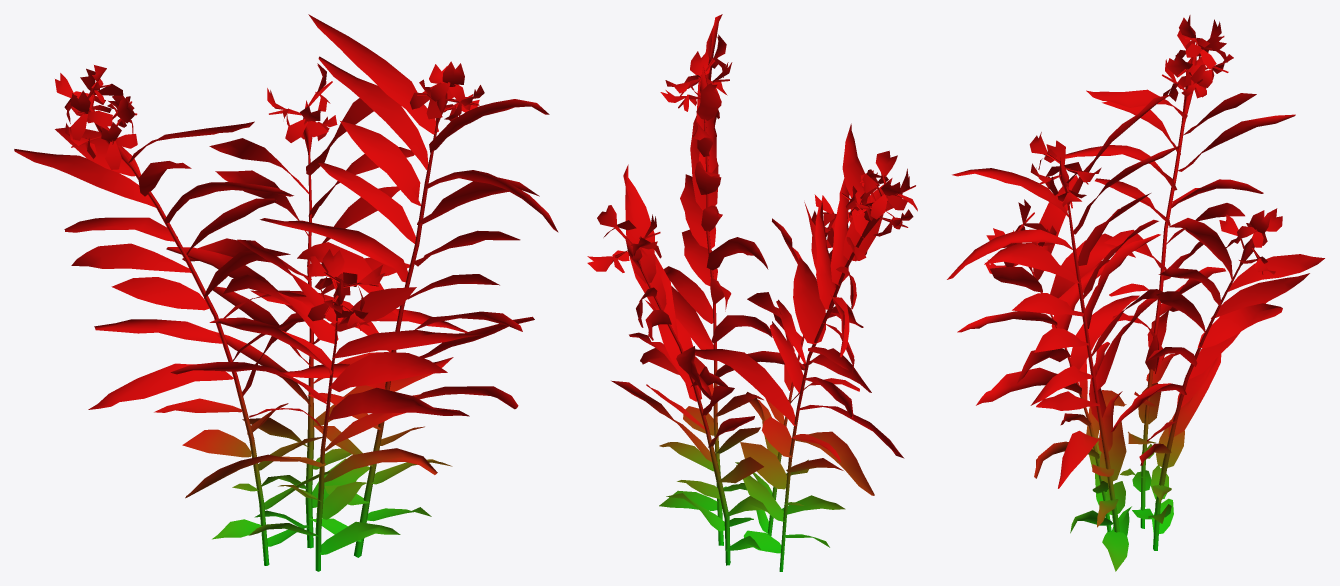
The model's file is Var1_LOD2.fbx.
3 renders of one model, left to right at view 1: azimuth 30°, elevation 25°; view 2: azimuth 150°, elevation 25°; view 3: azimuth 270°, elevation 25°, orthographic. The views are drawn at different scales.
Parts seen in each view (by area): view 1: _a45e_Var1_LOD2; view 2: _a45e_Var1_LOD2; view 3: _a45e_Var1_LOD2.
Part boxes in pixels (box(x1,y1,x2,y2)): _a45e_Var1_LOD2: box(14, 14, 558, 571); _a45e_Var1_LOD2: box(587, 14, 917, 571); _a45e_Var1_LOD2: box(947, 15, 1324, 571).
Size of the model in its own units: 103 by 136 by 102.
